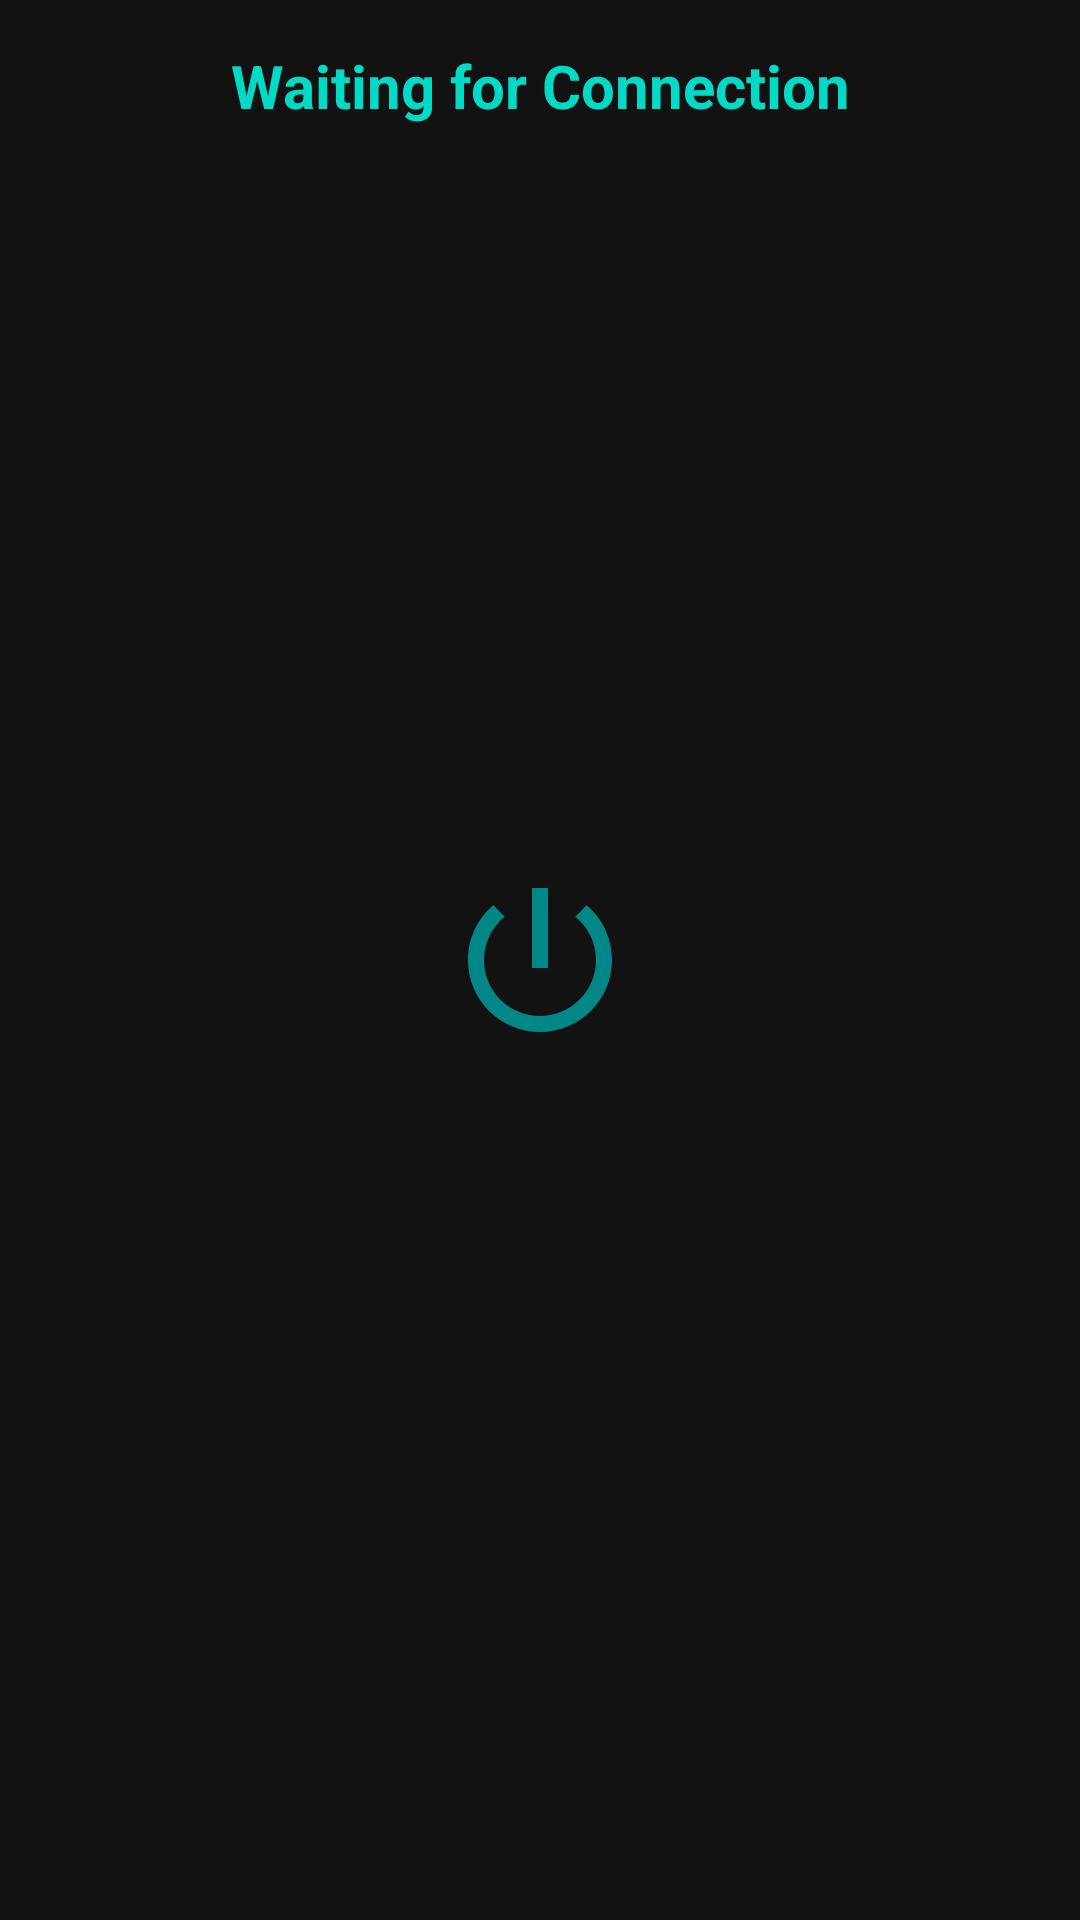

Named icons in this screenshot (1080 x 1920) and their bounding boxes, box(x1, y1, x2, y2):
power settings: box(468, 888, 612, 1032)
